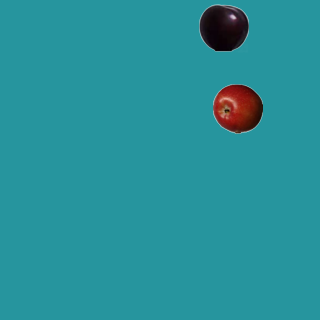Apple Braeburn: (212, 83, 262, 133)
Cherry Wax Black: (198, 2, 248, 52)
